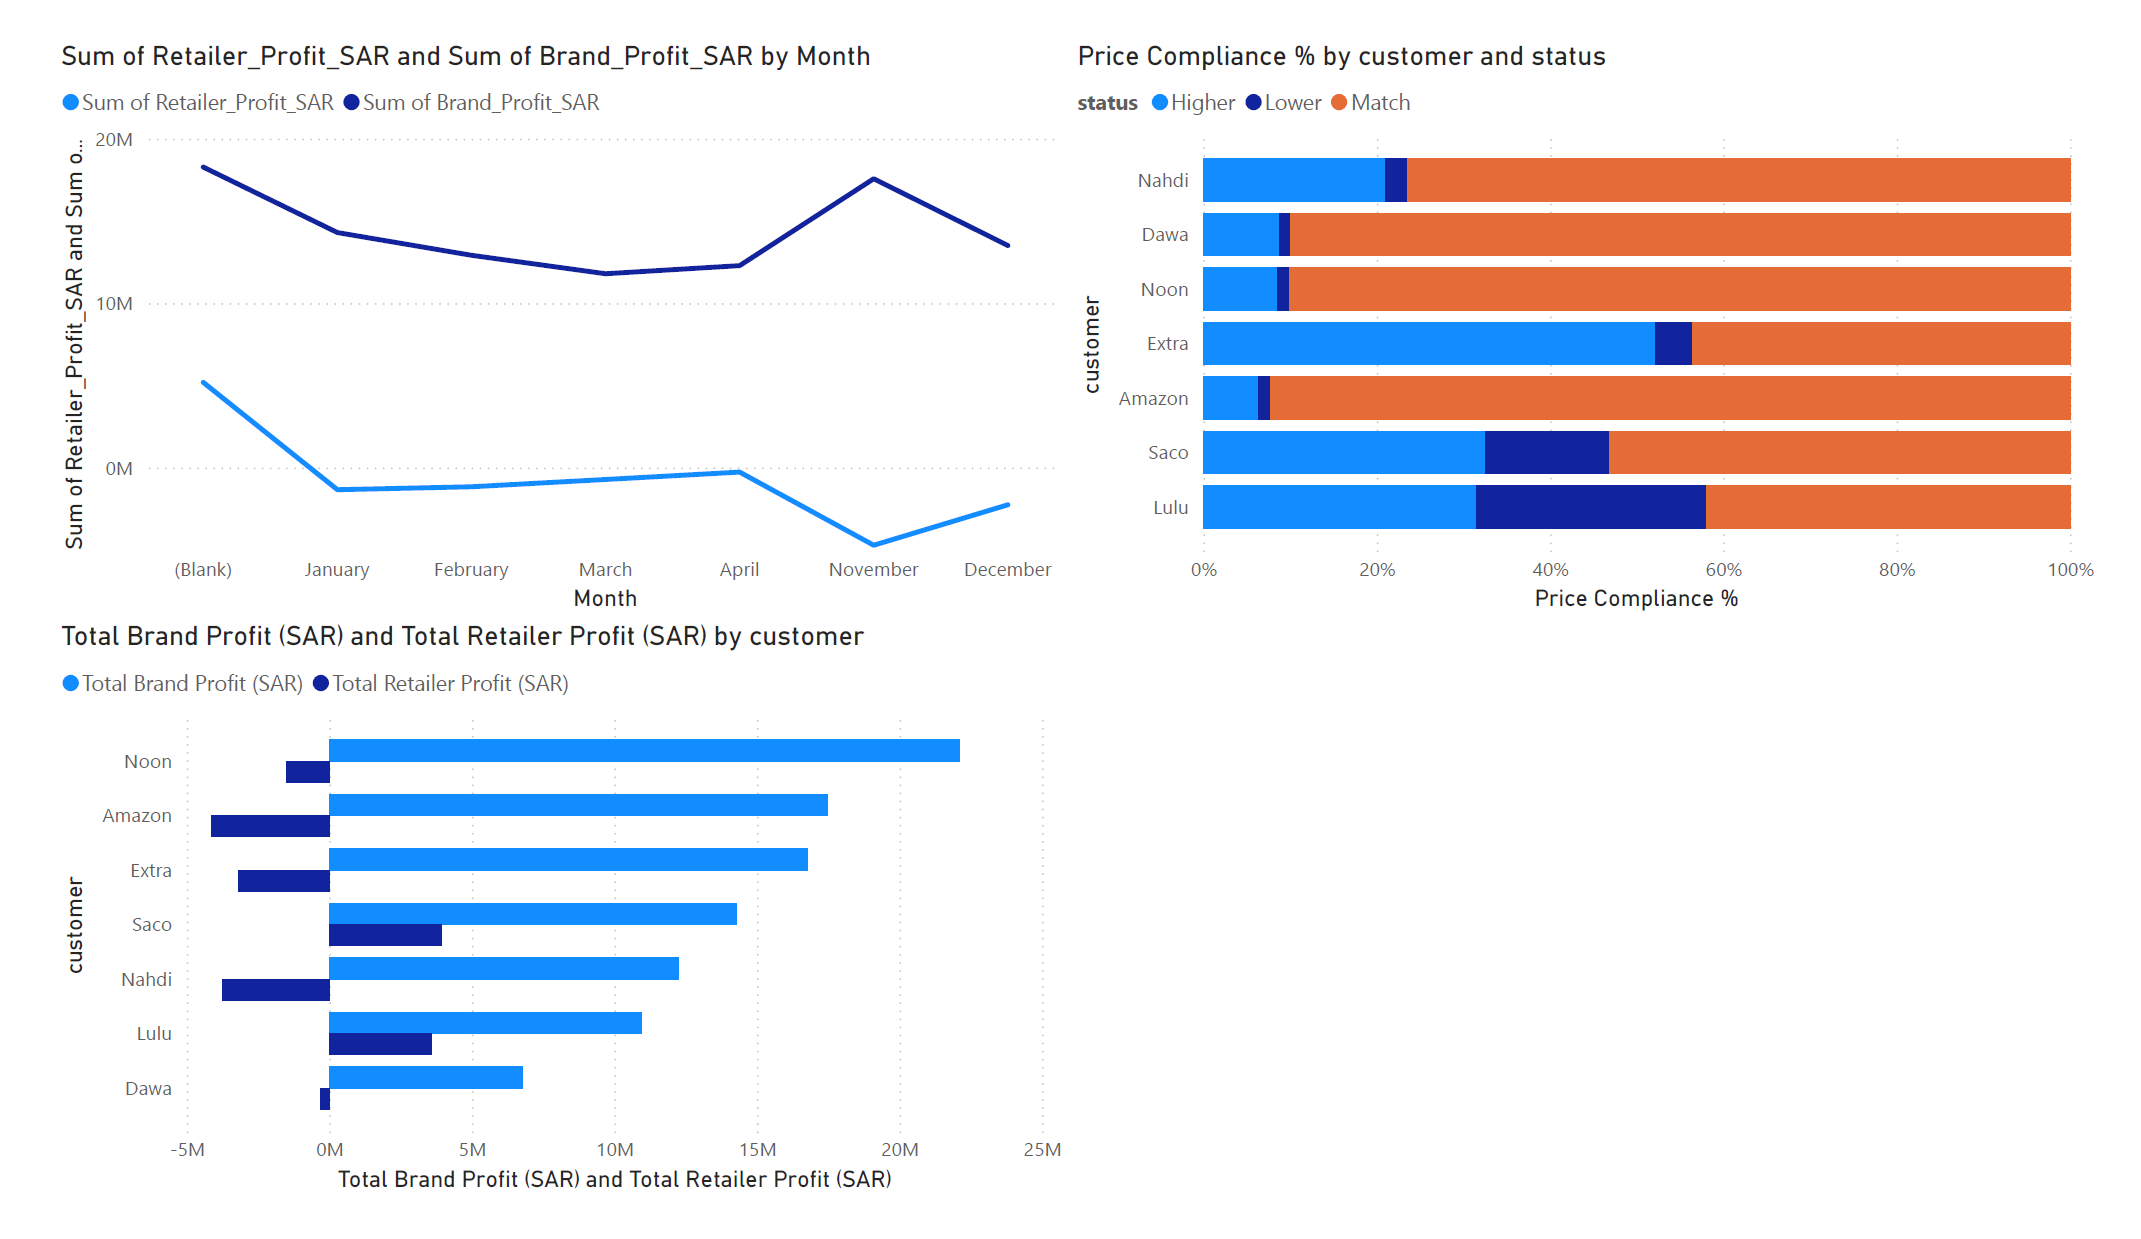

Layout of this report page (visuals, bound fields, positions):
{"tool":"powerbi","page":{"name":"Page 1","canvas":[1280,720],"ordinal":0},"visuals":[{"type":"lineChart","fields":{"Y":["Sum(Fact_Sales.Retailer_Profit_SAR)","Sum(Fact_Sales.Brand_Profit_SAR)"],"Category":["Dim_Date.Date.Variation.Date Hierarchy.Month"]},"box":[9.6,0,630.4,359.9],"z":0},{"type":"clusteredBarChart","fields":{"Y":["Measure_Table.Total Brand Profit (SAR)","Measure_Table.Total Retailer Profit (SAR)"],"Category":["Dim_Customer.customer"]},"box":[9.6,359.9,630.4,359.9],"z":1000},{"type":"hundredPercentStackedBarChart","fields":{"Category":["Dim_Customer.customer"],"Series":["Fact_Promo.status"],"Y":["Measure_Table.Price Compliance %"]},"box":[640,0,640,359.9],"z":2000}]}

Visuals, with their boxes in screenshot pixels (x1, y1, x2, y2), scaled from the page's 1280x720 canvas onto the 2141x1239 screenshot:
lineChart - Sum(Fact_Sales.Retailer_Profit_SAR) x Sum(Fact_Sales.Brand_Profit_SAR): <box>16,0,1070,619</box>
clusteredBarChart - Measure_Table.Total Brand Profit (SAR) x Measure_Table.Total Retailer Profit (SAR): <box>16,619,1070,1238</box>
hundredPercentStackedBarChart - Dim_Customer.customer x Fact_Promo.status: <box>1070,0,2140,619</box>
